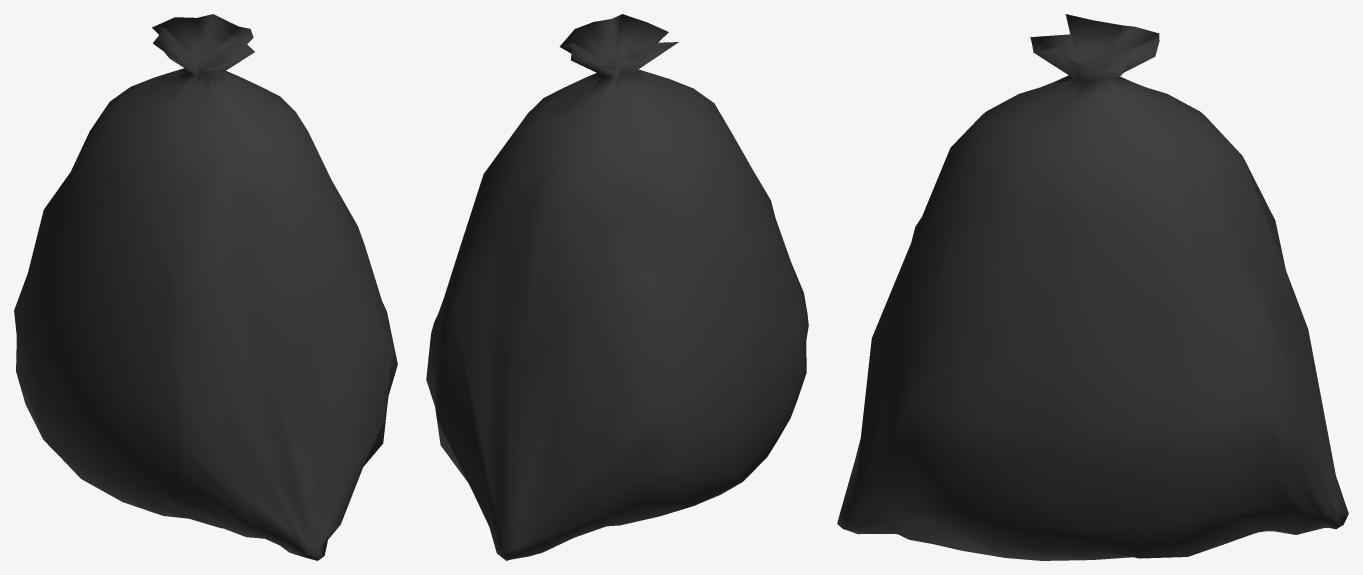
Rendered from Sac poubelle .fbx.
3 renders of one model, left to right at view 1: azimuth 30°, elevation 25°; view 2: azimuth 150°, elevation 25°; view 3: azimuth 270°, elevation 25°, orthographic. The views are drawn at different scales.
Visible parts, largest first — view 1: Cube.002; view 2: Cube.002; view 3: Cube.002.
Boxes of the visible parts, x1=… form: Cube.002: x1=14, y1=14, x2=397, y2=560; Cube.002: x1=426, y1=14, x2=808, y2=560; Cube.002: x1=837, y1=14, x2=1348, y2=560.
Bounding box in the file's own units: 135 × 196 × 182.
